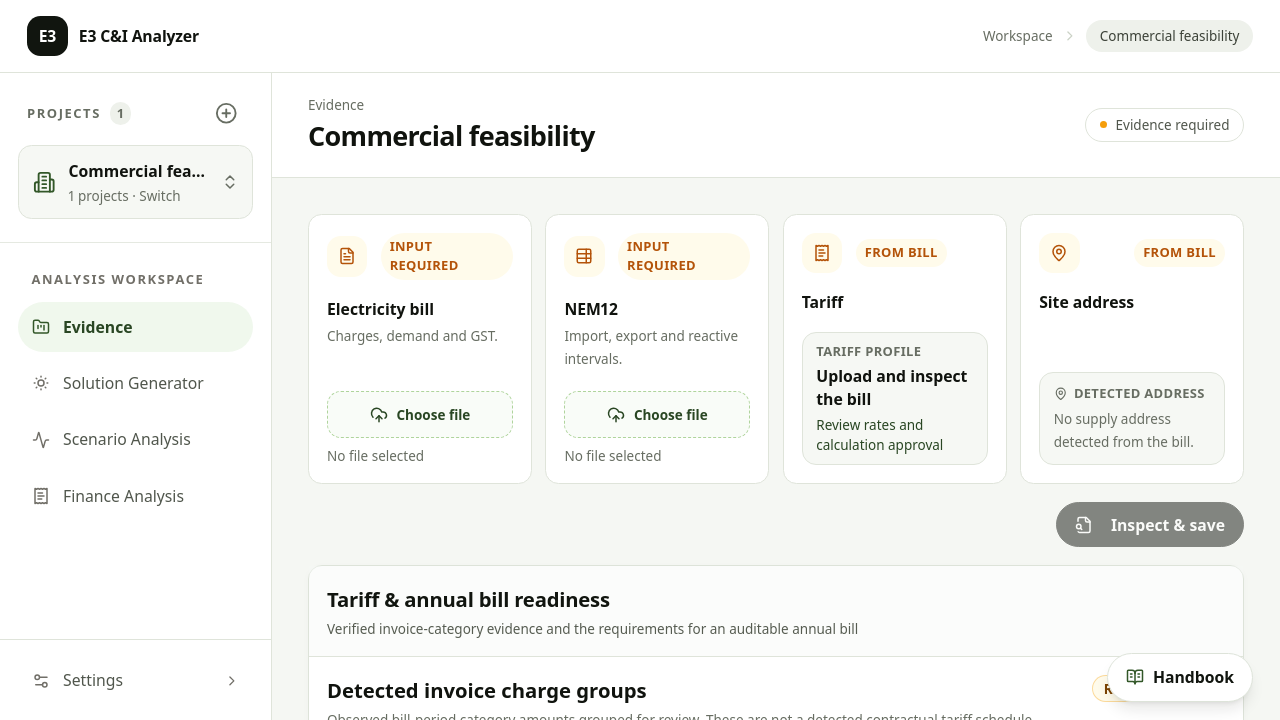
Test: C&I project workspace › opens the shared Device profile from Settings in the lower left rail
Expected: the element named "Evidence sources" is shown, [308, 214, 1244, 484]
Click the button with aria-label "Open settings" at (136, 680), box [18, 658, 253, 703]
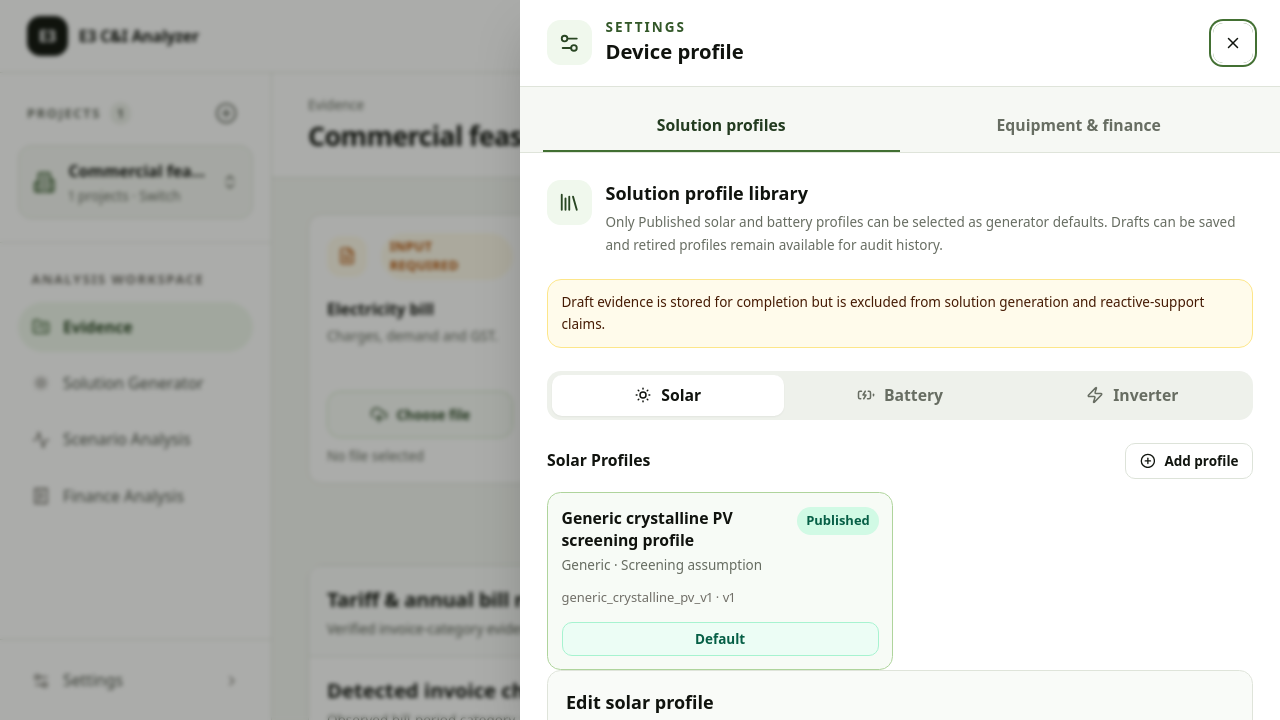
Result: the dialog "Settings" is shown
Result: the heading "Device profile" is shown at [606, 36, 744, 68]
Result: the heading "Solution profile library" is shown at [606, 180, 808, 204]
Click the tab "Equipment & finance" at (1079, 126), box [900, 100, 1258, 152]
(page scrolled)
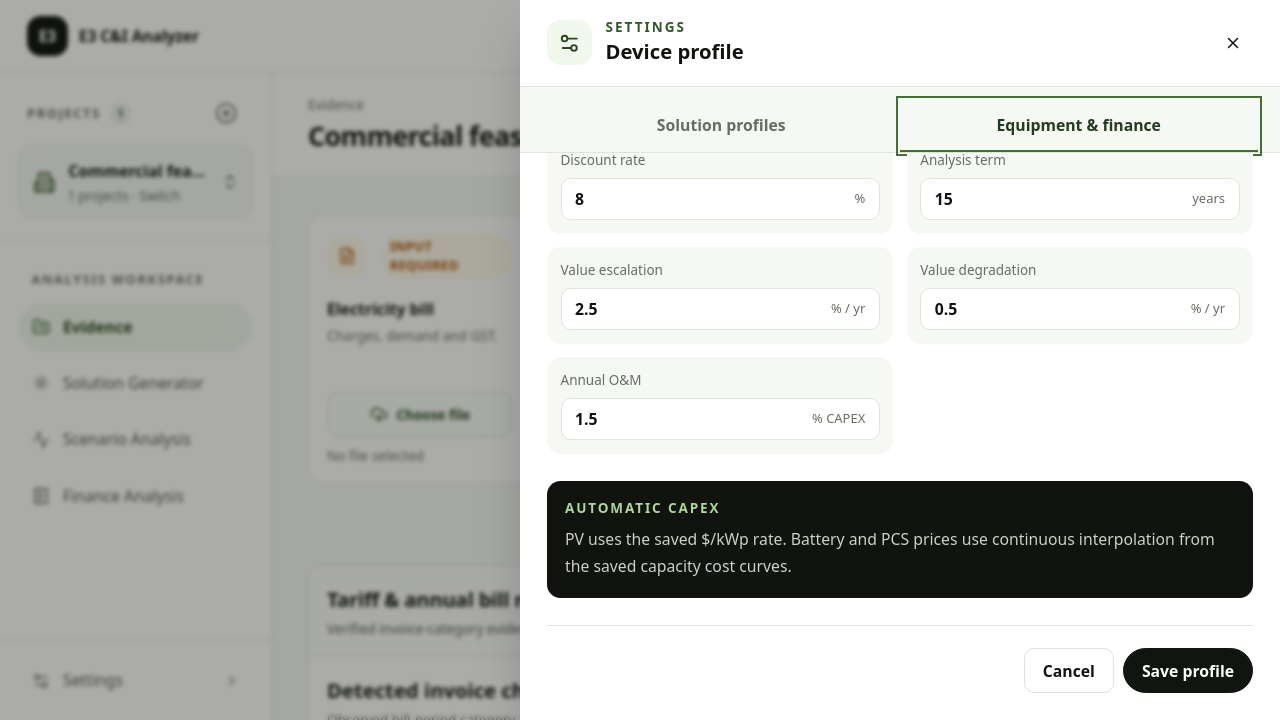
Click the button "Save profile" at (1188, 671), box [1123, 648, 1253, 693]
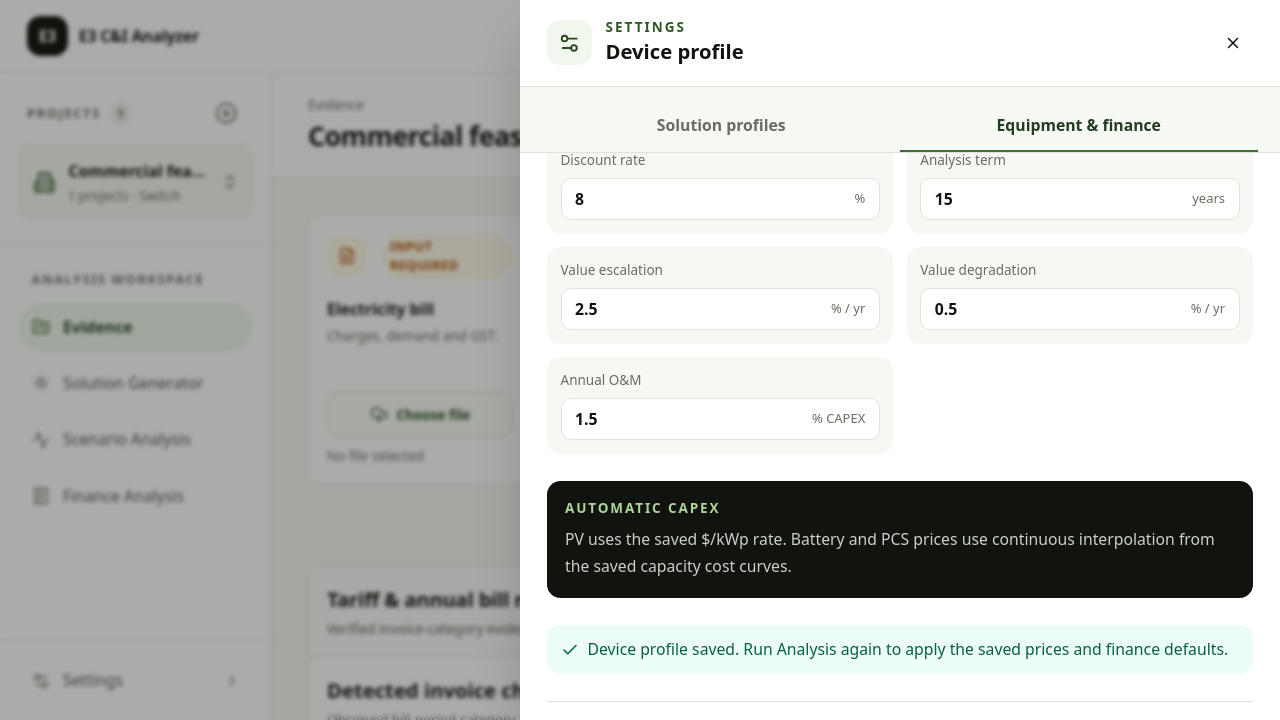
Result: the text "Device profile saved" is shown at [588, 638, 1228, 660]
